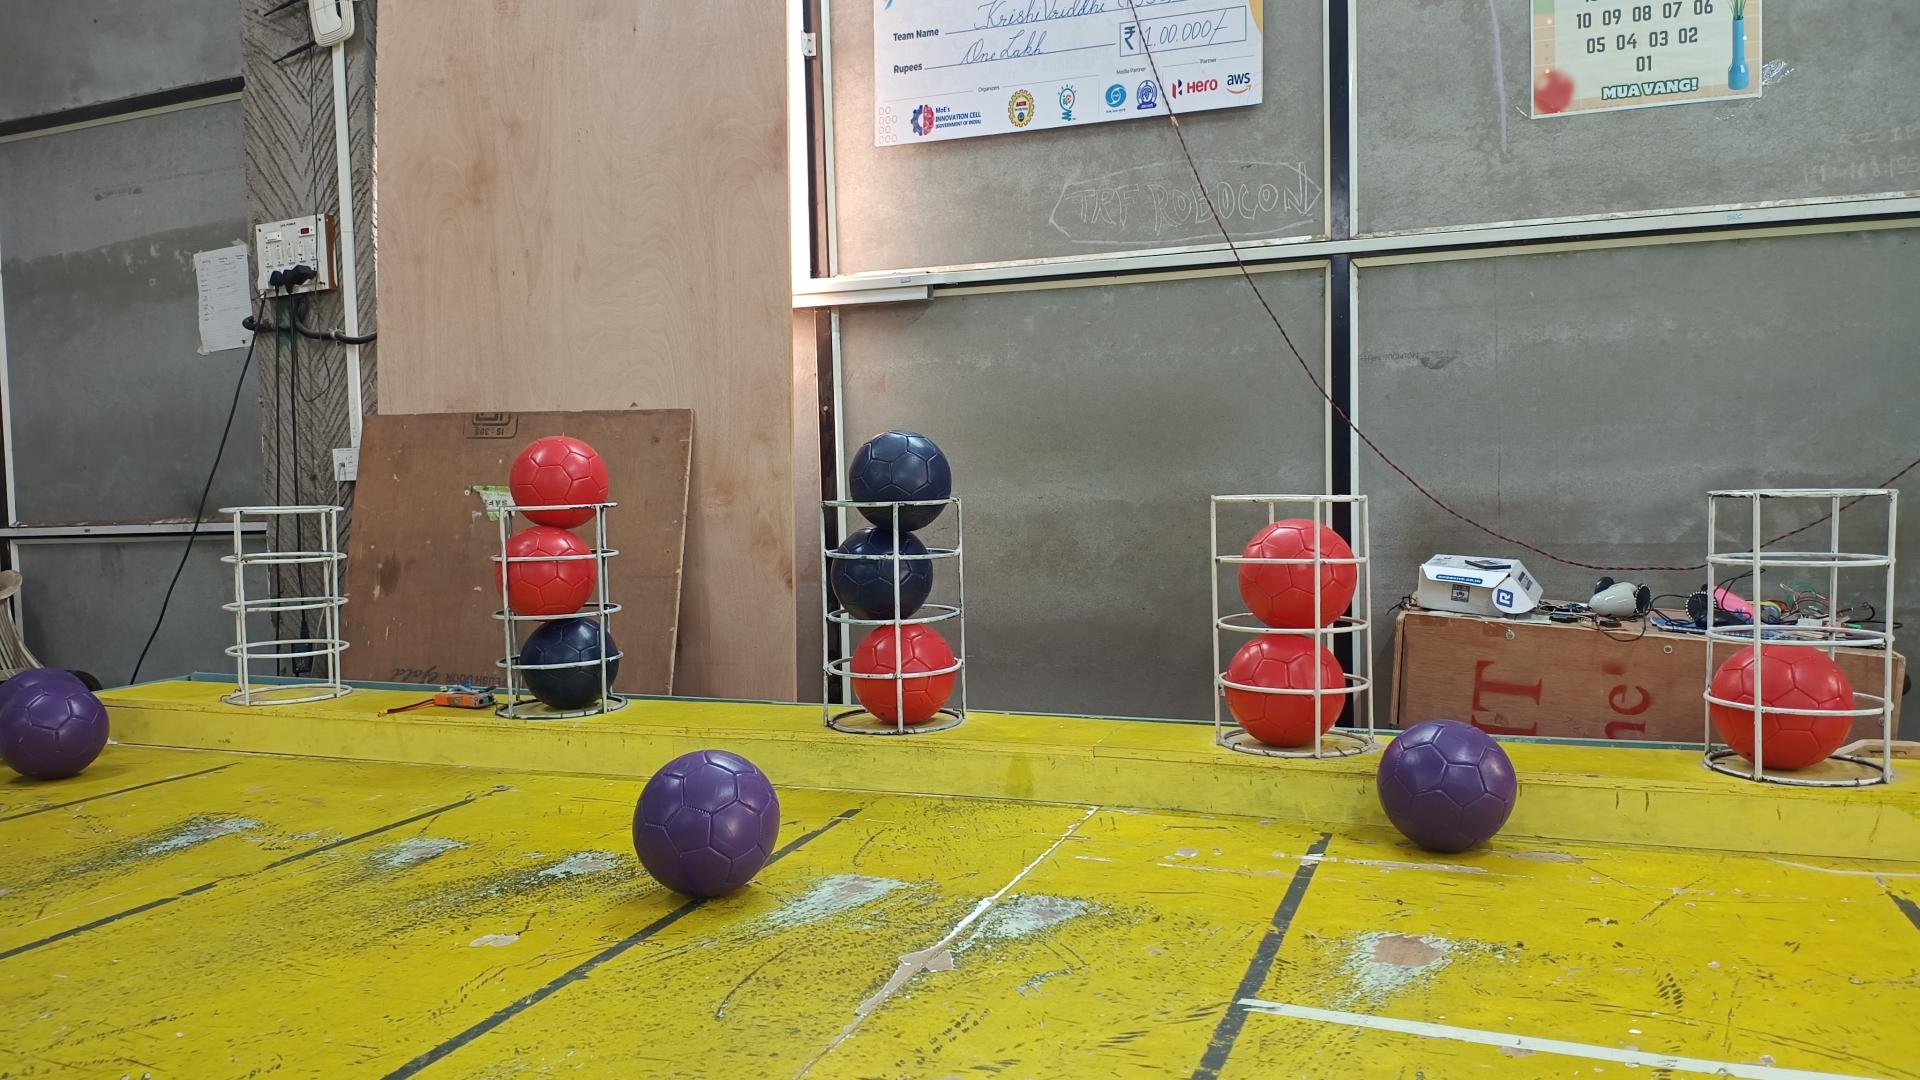dhoka: (848, 431, 952, 533), (828, 525, 934, 622), (521, 618, 618, 708)
laale: (1710, 645, 1857, 769), (1226, 634, 1346, 750), (1237, 517, 1357, 630), (852, 622, 960, 724), (492, 525, 596, 615), (510, 435, 608, 529)
